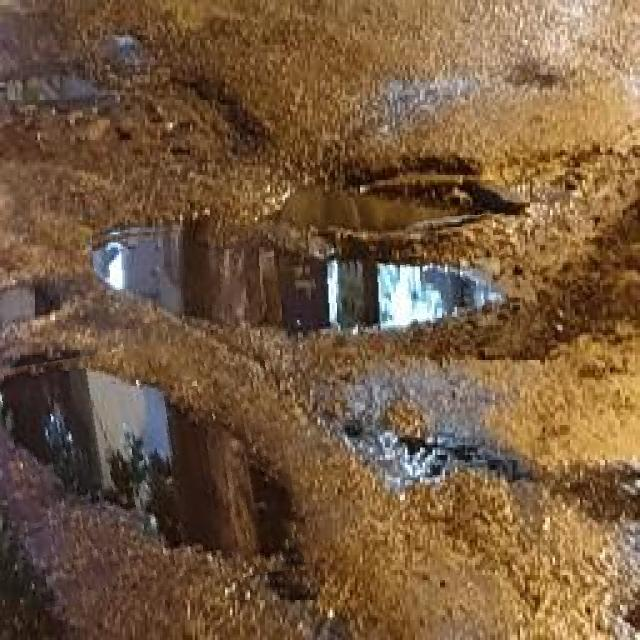puddle: (1, 338, 298, 602), (94, 220, 511, 351)
